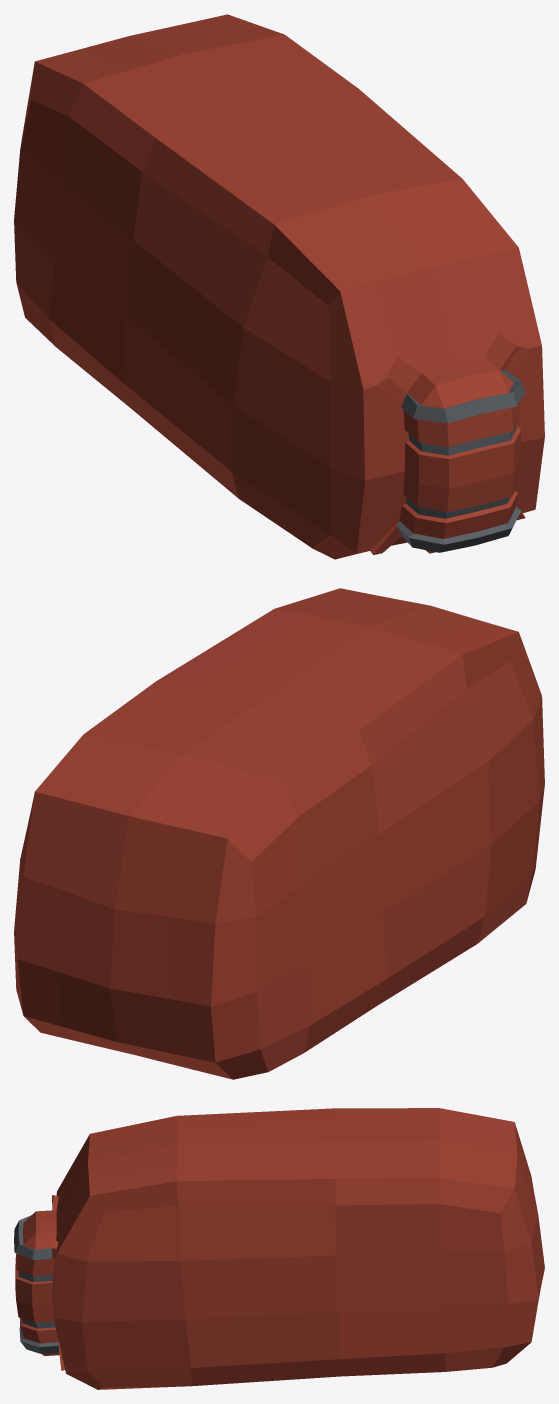
Rendered from Personal_Vehicle_02_Front_Body_Red.fbx.
3 renders of one model, top to bottom at view 1: azimuth 30°, elevation 25°; view 2: azimuth 150°, elevation 25°; view 3: azimuth 270°, elevation 25°, orthographic. The views are drawn at different scales.
Parts seen in each view (by area): view 1: Personal_Vehicle_02_Front_Body_Red; view 2: Personal_Vehicle_02_Front_Body_Red; view 3: Personal_Vehicle_02_Front_Body_Red.
Boxes of the visible parts, x1=… form: Personal_Vehicle_02_Front_Body_Red: x1=14, y1=14, x2=544, y2=559; Personal_Vehicle_02_Front_Body_Red: x1=14, y1=588, x2=544, y2=1079; Personal_Vehicle_02_Front_Body_Red: x1=14, y1=1108, x2=544, y2=1389.
Bounding box in the file's own units: 83.05 × 92.09 × 202.
Materials: 1 (1 with a texture image).
